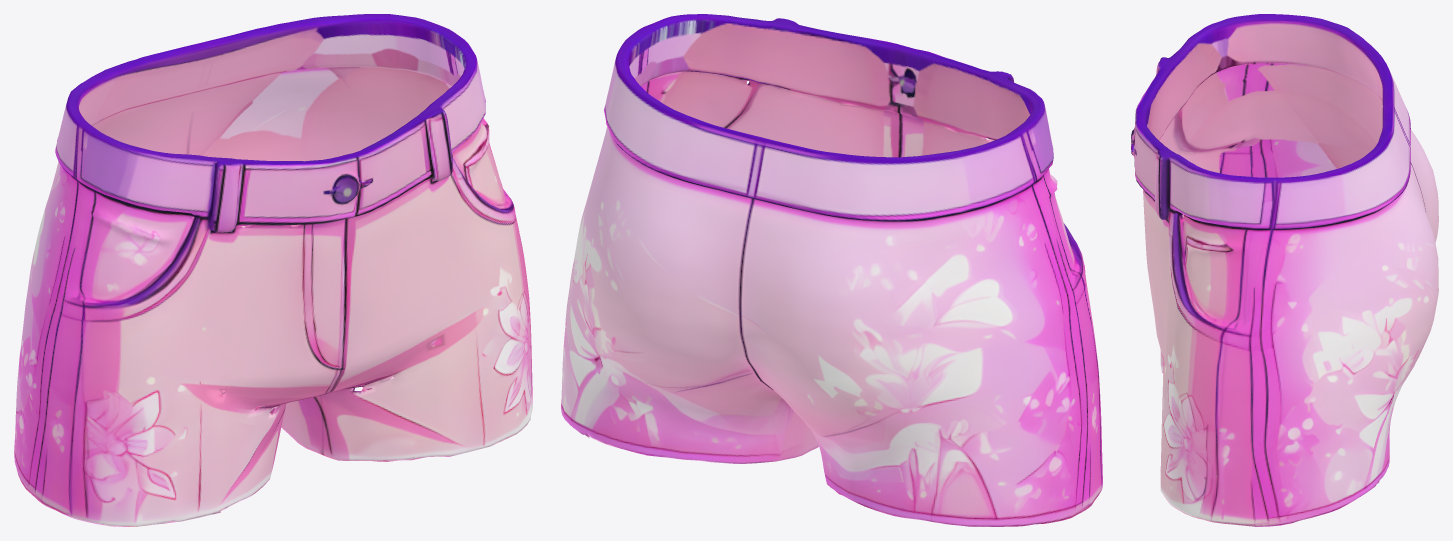
Rendered from shorts.glb.
The picture shows the model from 3 angles, left to right: view 1: azimuth 30°, elevation 25°; view 2: azimuth 150°, elevation 25°; view 3: azimuth 270°, elevation 25°; orthographic projection. The views are drawn at different scales.
Parts seen in each view (by area): view 1: model_0; view 2: model_0; view 3: model_0.
Part boxes in pixels (bbox=[...]): model_0: bbox=[14, 14, 532, 526]; model_0: bbox=[561, 14, 1102, 526]; model_0: bbox=[1131, 14, 1438, 526].
Bounding box in the file's own units: 1.91 × 1.39 × 1.17.
1 material, 1 textured.
